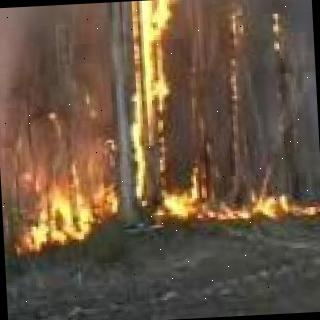fire: (12, 133, 320, 249), (133, 0, 185, 123), (223, 10, 250, 132)
